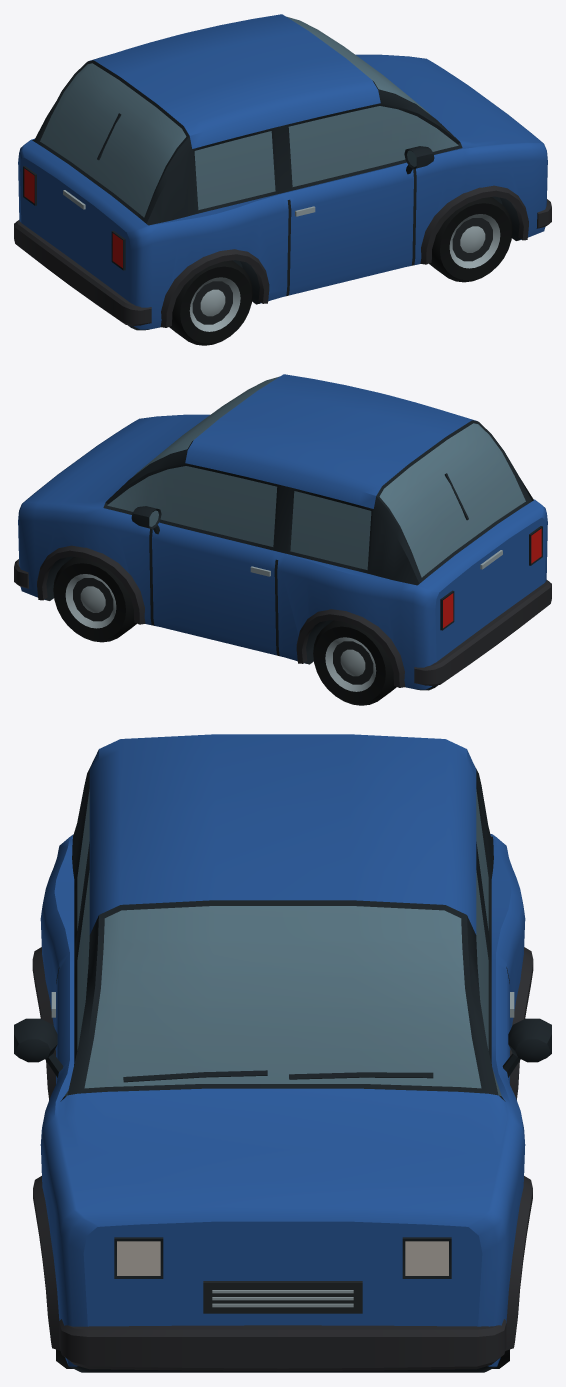
The model's file is cute-car-hatchback-crafted.glb.
The picture shows the model from 3 angles, top to bottom: view 1: azimuth 30°, elevation 25°; view 2: azimuth 150°, elevation 25°; view 3: azimuth 270°, elevation 25°; orthographic projection. The views are drawn at different scales.
Parts seen in each view (by area): view 1: tripo_node_9de63797-04ca-4f9a-95c3-5cad2e02bcfa; view 2: tripo_node_9de63797-04ca-4f9a-95c3-5cad2e02bcfa; view 3: tripo_node_9de63797-04ca-4f9a-95c3-5cad2e02bcfa.
Part boxes in pixels (x1,y1,x2,y2): tripo_node_9de63797-04ca-4f9a-95c3-5cad2e02bcfa: (14, 14, 551, 345); tripo_node_9de63797-04ca-4f9a-95c3-5cad2e02bcfa: (14, 374, 551, 705); tripo_node_9de63797-04ca-4f9a-95c3-5cad2e02bcfa: (14, 734, 551, 1372).
Bounding box in the file's own units: 1 × 0.4853 × 0.6008.
Materials: 1 (1 with a texture image).
